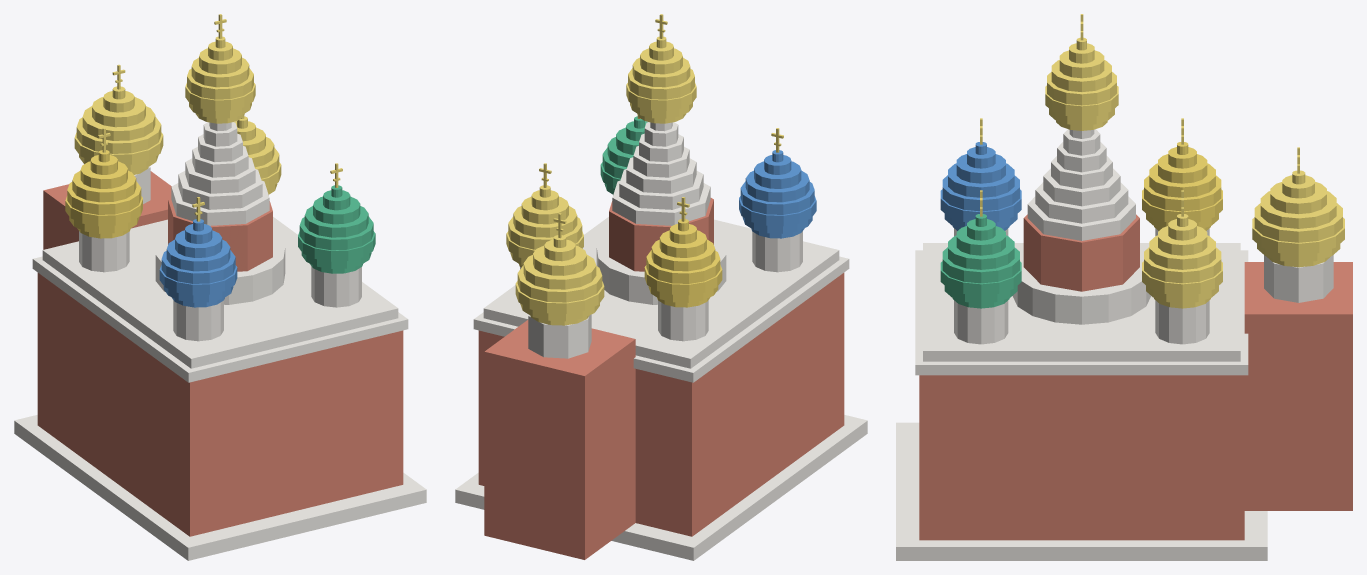
Rendered from spas_na_krovi.glb.
The picture shows the model from 3 angles, left to right: view 1: azimuth 30°, elevation 25°; view 2: azimuth 150°, elevation 25°; view 3: azimuth 270°, elevation 25°; orthographic projection. The views are drawn at different scales.
Visible parts, largest first — view 1: Main_Body.001, Kokoshnik_Belt_2, Plinth.002, Kokoshnik_Belt_1, Belfry_Base, Central_Drum_Oct, Central_Drum_Base, Tent_Step_0, Drum_NE, Drum_NW, Drum_SW, Tent_Step_1 (+28 smaller); view 2: Main_Body.001, Belfry_Base, Kokoshnik_Belt_2, Plinth.002, Kokoshnik_Belt_1, Central_Drum_Oct, Central_Drum_Base, Belfry_Drum, Tent_Step_0, Drum_NW, Drum_SW, Tent_Step_1 (+27 smaller); view 3: Main_Body.001, Belfry_Base, Kokoshnik_Belt_2, Plinth.002, Kokoshnik_Belt_1, Central_Drum_Oct, Central_Drum_Base, Belfry_Drum, Tent_Step_0, Drum_NE, Drum_SE, Tent_Step_1 (+32 smaller).
Boxes of the visible parts, box(x1,y1,x2,y2) form: Main_Body.001: box(37, 273, 403, 536); Kokoshnik_Belt_2: box(42, 217, 398, 368); Plinth.002: box(14, 415, 426, 560); Kokoshnik_Belt_1: box(32, 256, 408, 382); Belfry_Base: box(43, 171, 171, 249); Central_Drum_Oct: box(168, 198, 272, 271); Central_Drum_Base: box(155, 235, 285, 304); Tent_Step_0: box(171, 180, 269, 225); Drum_NE: box(311, 266, 361, 307); Drum_NW: box(173, 300, 223, 341); Drum_SW: box(79, 231, 129, 272); Tent_Step_1: box(178, 169, 262, 209); Main_Body.001: box(478, 273, 844, 536); Belfry_Base: box(484, 320, 635, 559); Kokoshnik_Belt_2: box(483, 217, 839, 368); Plinth.002: box(455, 415, 867, 560); Kokoshnik_Belt_1: box(473, 256, 849, 382); Central_Drum_Oct: box(609, 198, 713, 271); Central_Drum_Base: box(596, 235, 726, 304); Belfry_Drum: box(528, 314, 591, 358); Tent_Step_0: box(612, 180, 710, 225); Drum_NW: box(752, 231, 802, 272); Drum_SW: box(658, 300, 708, 341); Tent_Step_1: box(619, 169, 703, 209); Main_Body.001: box(919, 375, 1244, 540); Belfry_Base: box(1244, 262, 1352, 510); Kokoshnik_Belt_2: box(923, 243, 1240, 361); Plinth.002: box(896, 422, 1267, 560); Kokoshnik_Belt_1: box(915, 250, 1248, 375); Central_Drum_Oct: box(1023, 214, 1139, 291); Central_Drum_Base: box(1012, 252, 1150, 324); Belfry_Drum: box(1264, 255, 1333, 302); Tent_Step_0: box(1027, 196, 1135, 240); Drum_NE: box(954, 300, 1008, 344); Drum_SE: box(1155, 300, 1209, 344); Tent_Step_1: box(1035, 182, 1128, 223).
Bounding box in the file's own units: 38 × 69 × 59.
